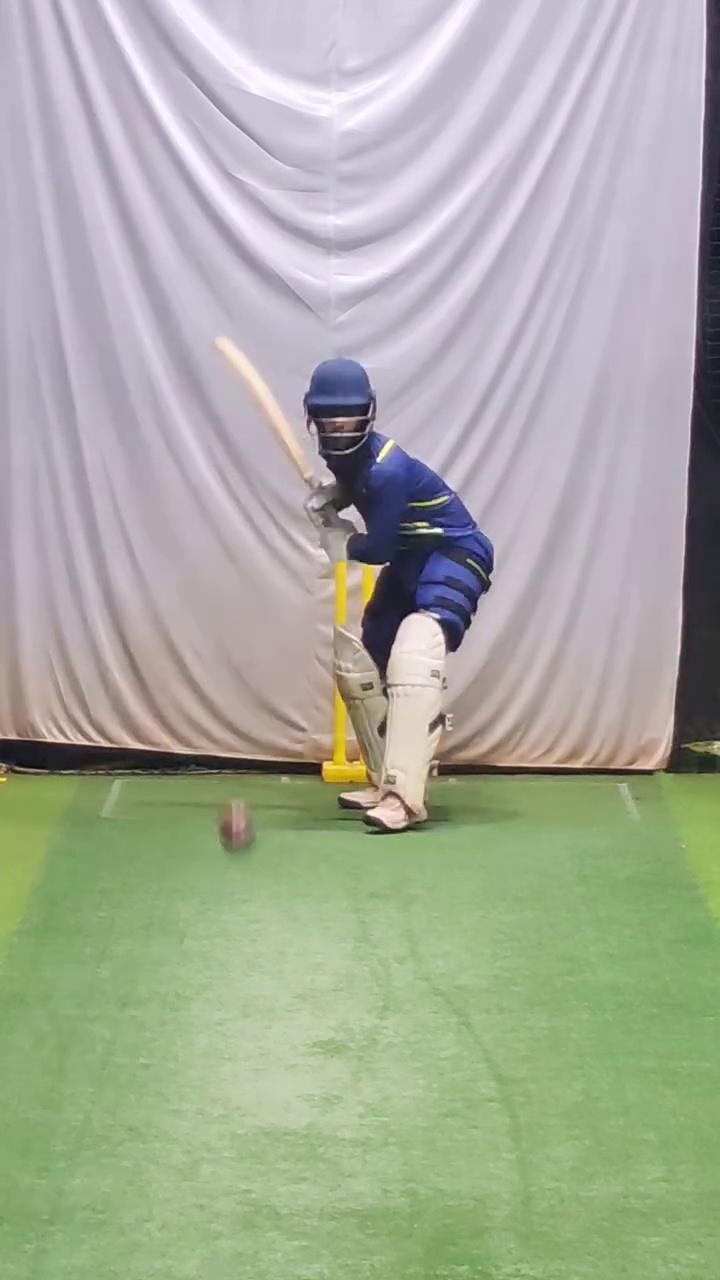bat: (204, 324, 324, 489)
